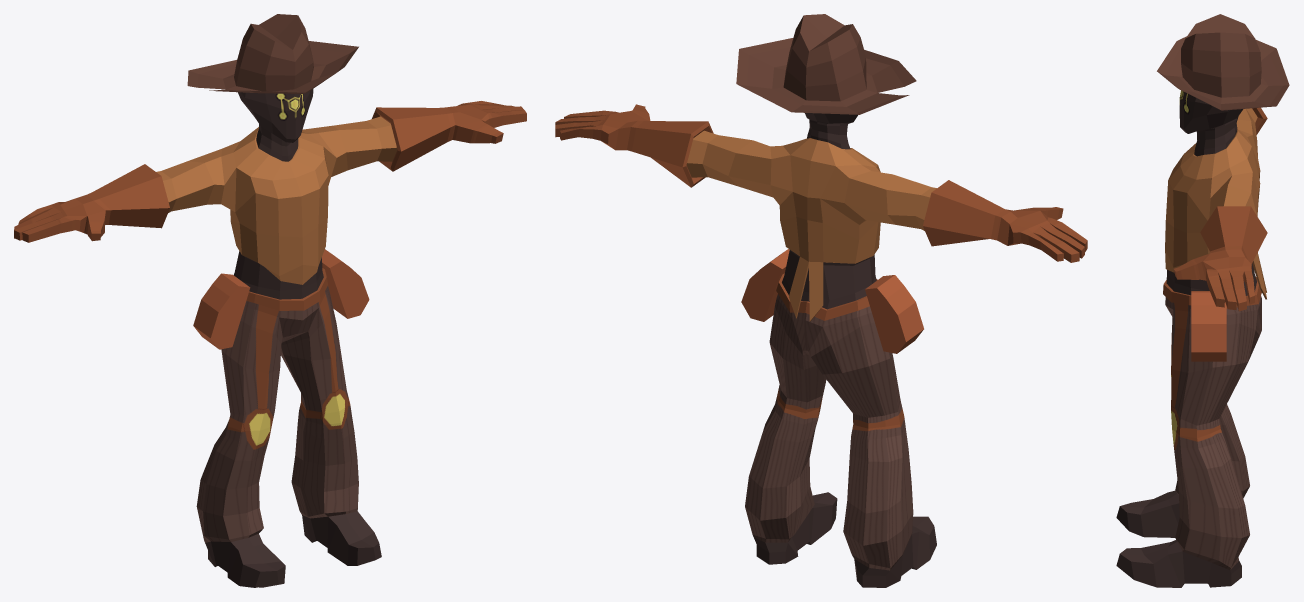
File: texDawn_MDL.fbx
3 views of the same model, side by side, from view 1: azimuth 30°, elevation 25°; view 2: azimuth 150°, elevation 25°; view 3: azimuth 270°, elevation 25° (orthographic). The views are drawn at different scales.
Visible parts, largest first — view 1: body, hat, holsters; view 2: body, hat, holsters; view 3: body, hat, holsters.
Part boxes in pixels (x1,y1,x2,y2): body: (14,89,526,587); hat: (187,14,358,93); holsters: (193,249,369,349); body: (555,104,1087,587); hat: (736,14,916,114); holsters: (741,249,923,353); body: (1116,90,1267,587); hat: (1157,14,1289,110); holsters: (1191,291,1226,361).
Bounding box in the file's own units: 315 × 314 × 92.
3 materials, 1 textured.
